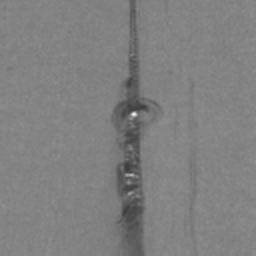Slag inclusion: (110, 0, 163, 256)
